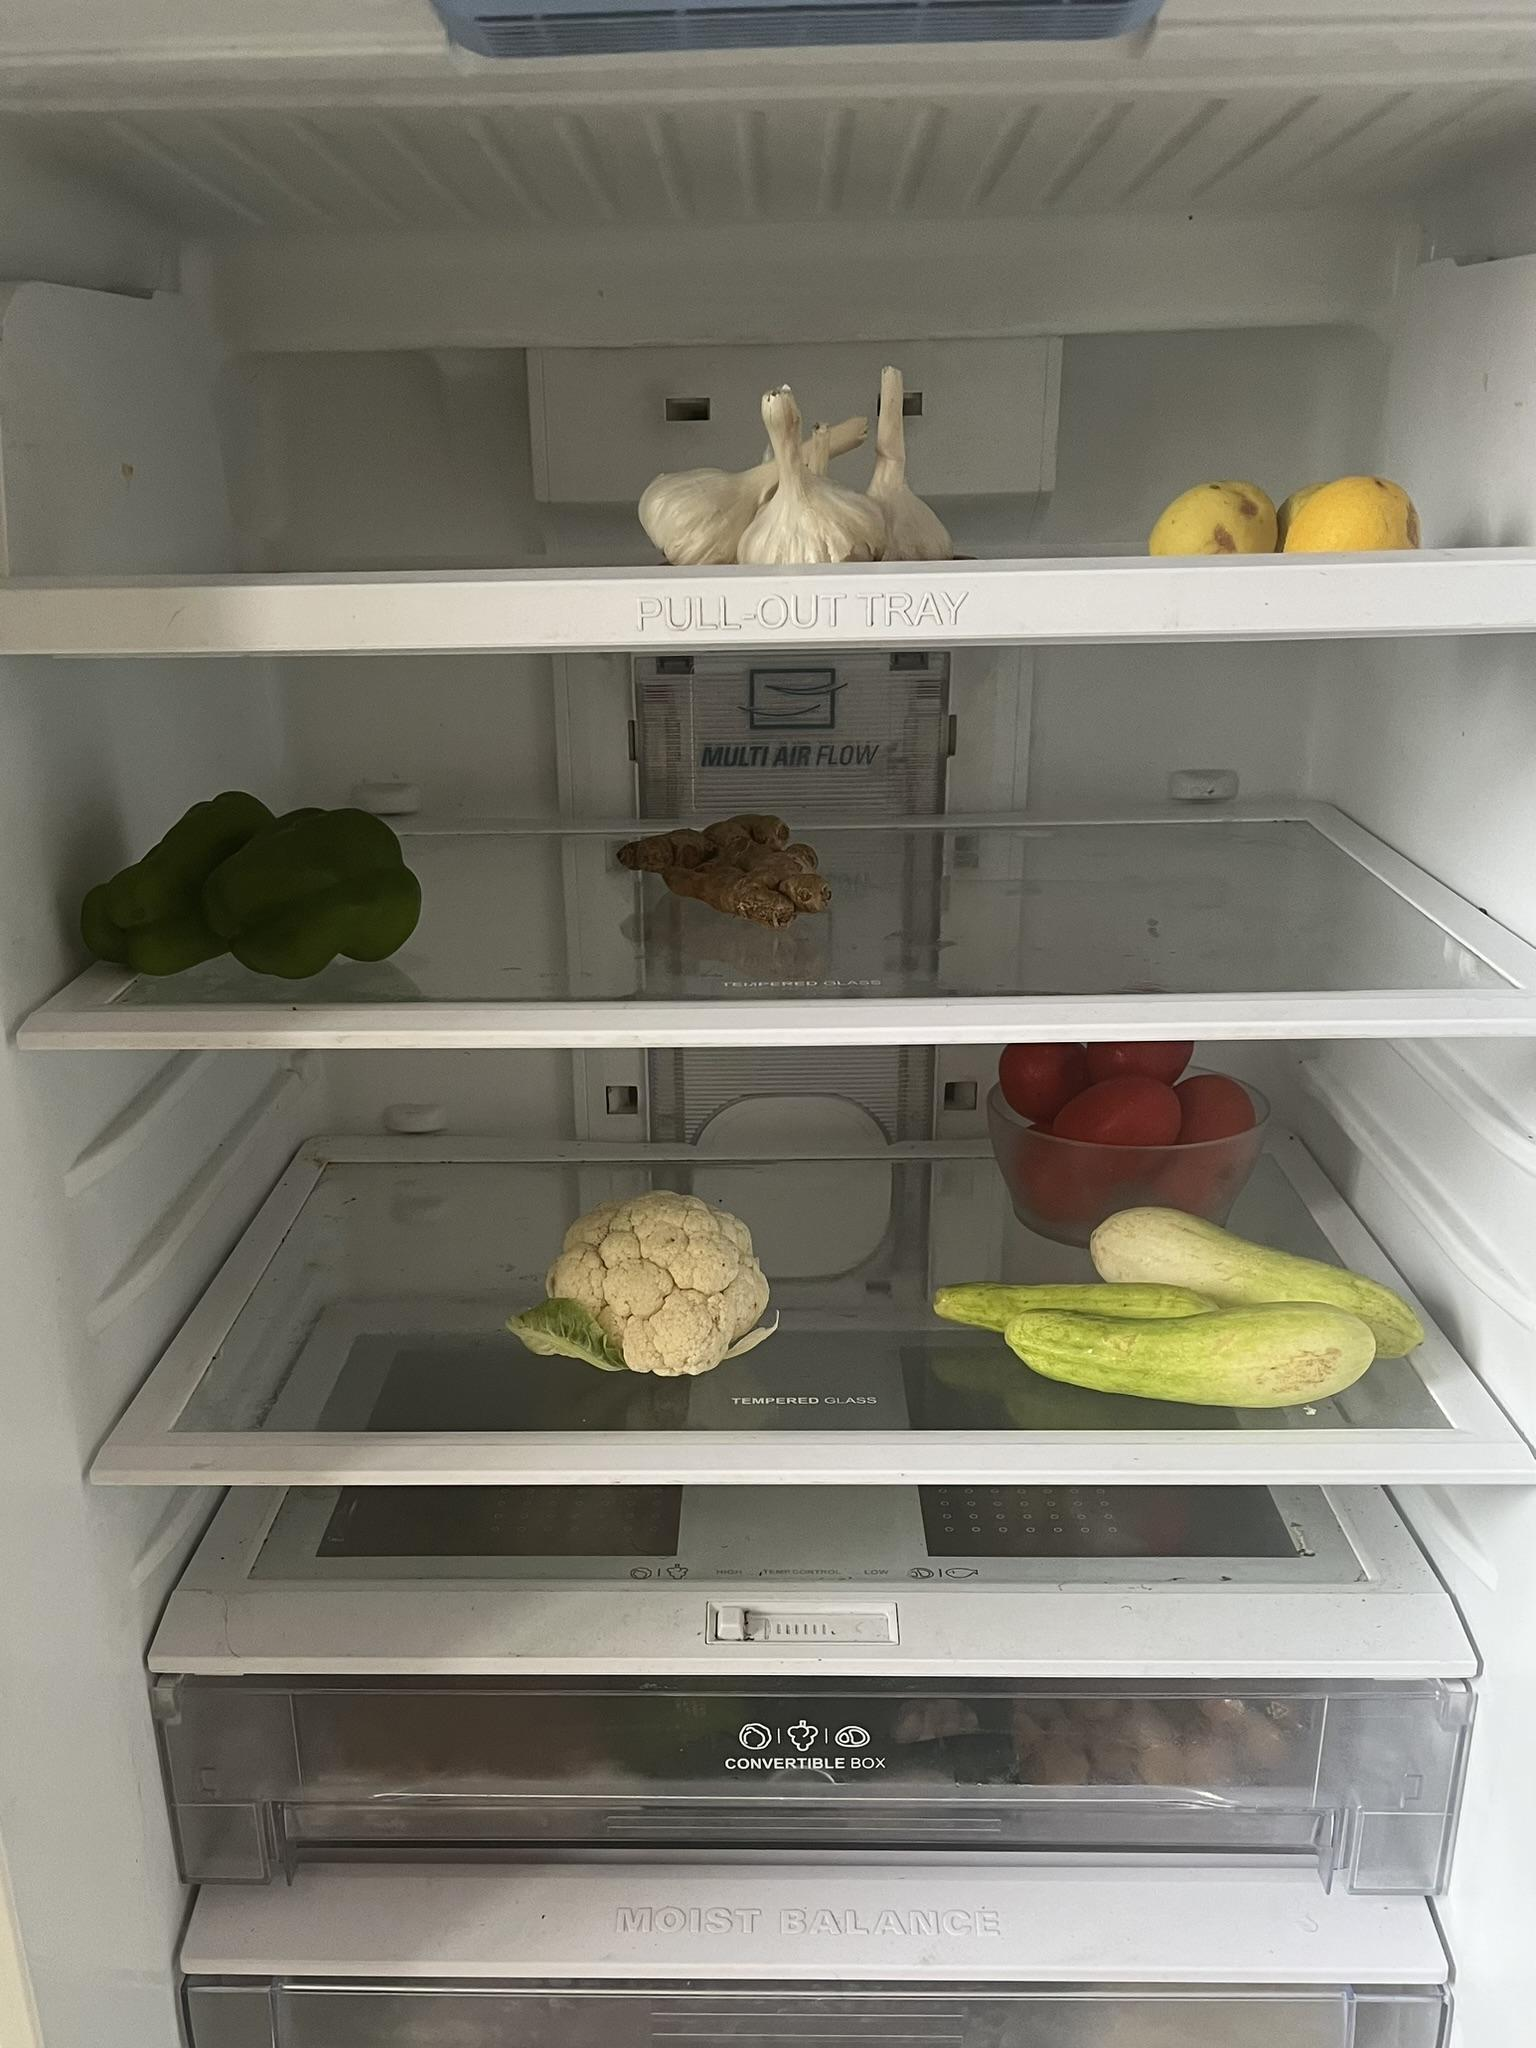capsicum: (69, 774, 437, 977)
cauliflower: (513, 1187, 810, 1380)
cucumber: (920, 1206, 1454, 1413)
garlic: (629, 374, 963, 563)
ginger: (610, 810, 844, 940)
lemon: (1154, 453, 1433, 563)
tomato: (991, 1047, 1286, 1200)
